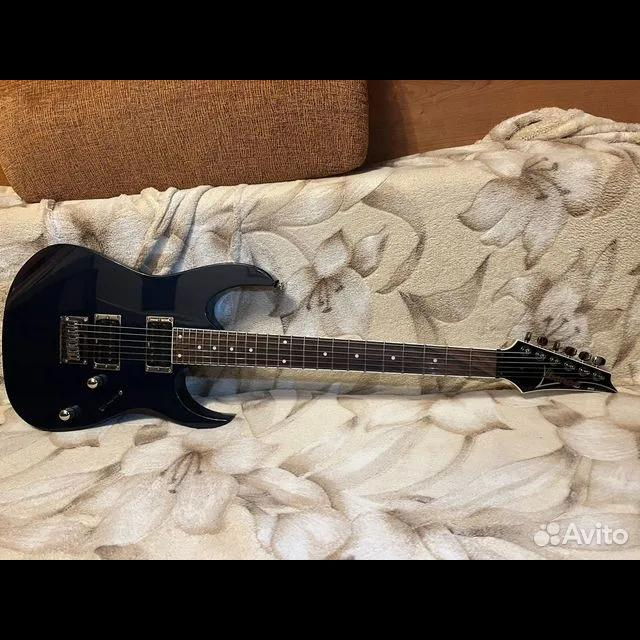Electric-Guitar: (3, 243, 619, 432)
